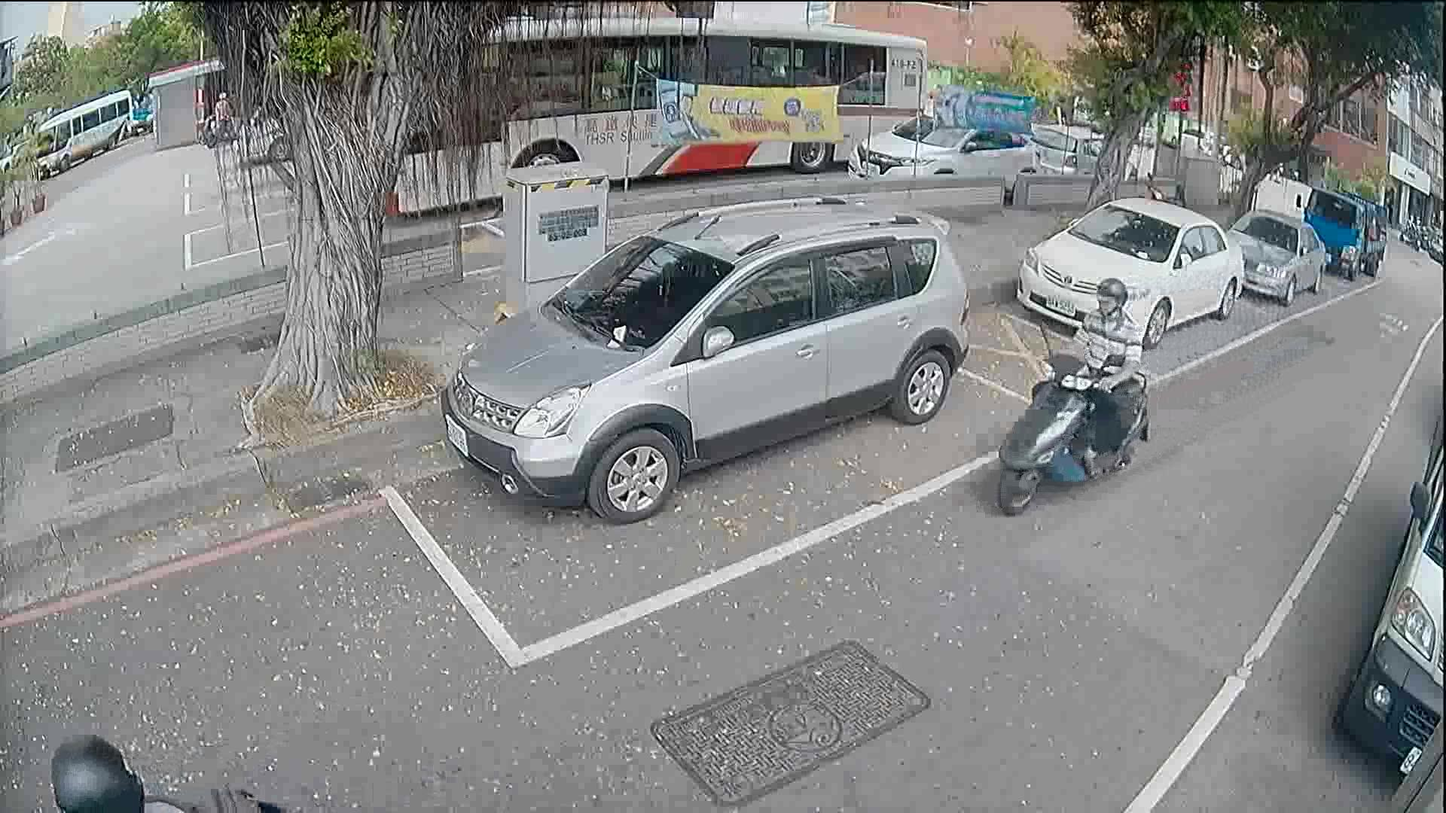person: (1039, 275, 1147, 475), (41, 726, 151, 811), (208, 85, 232, 143)
